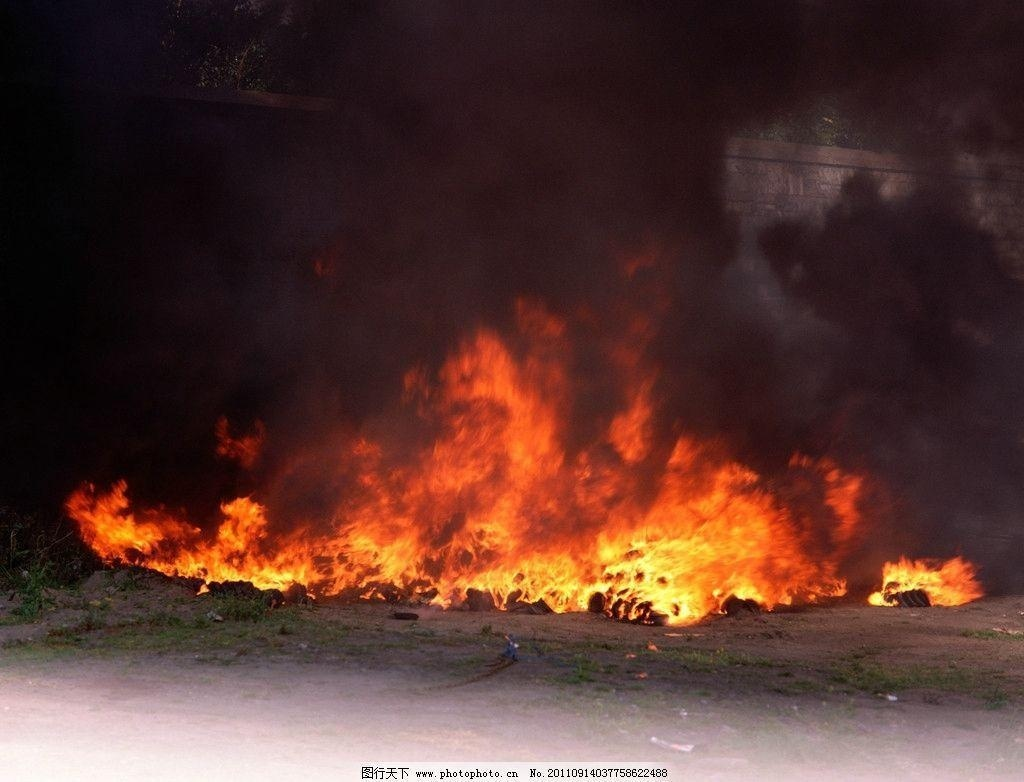fire: (16, 286, 964, 633)
